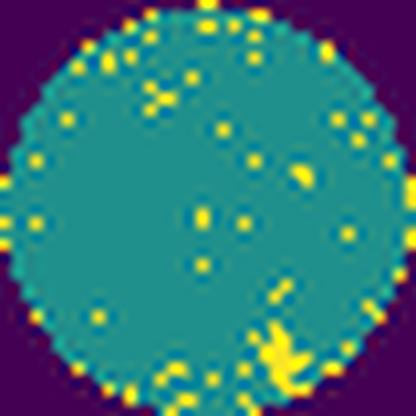Loc: (254, 324, 318, 398)
